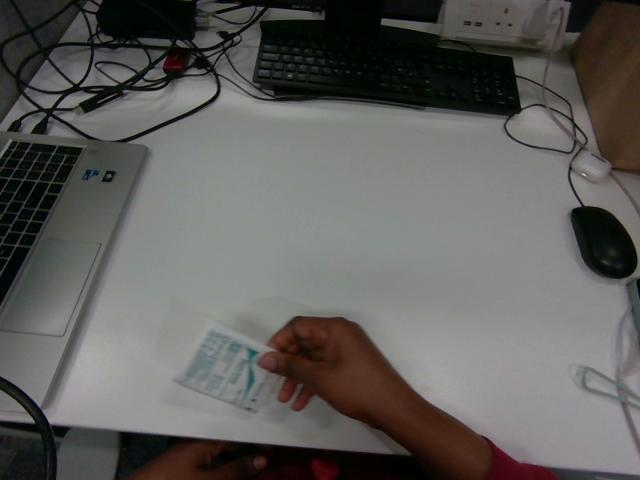gauze: (174, 324, 279, 411)
